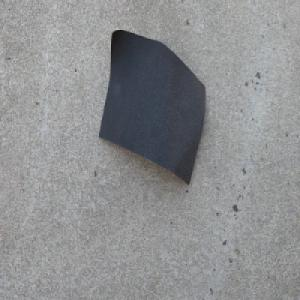PaintChip: (97, 27, 207, 185)
